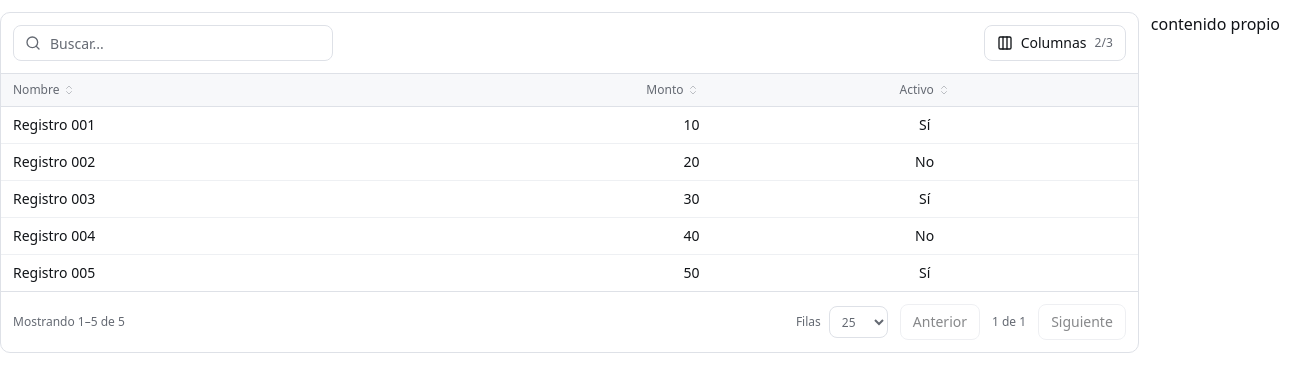
Test: AdvancedTable › configuración de columnas › convive con la ranura de panel lateral del módulo
Step 1. Click the button with aria-label "Columnas," → (1055, 43), box 984,25 -> 1126,61
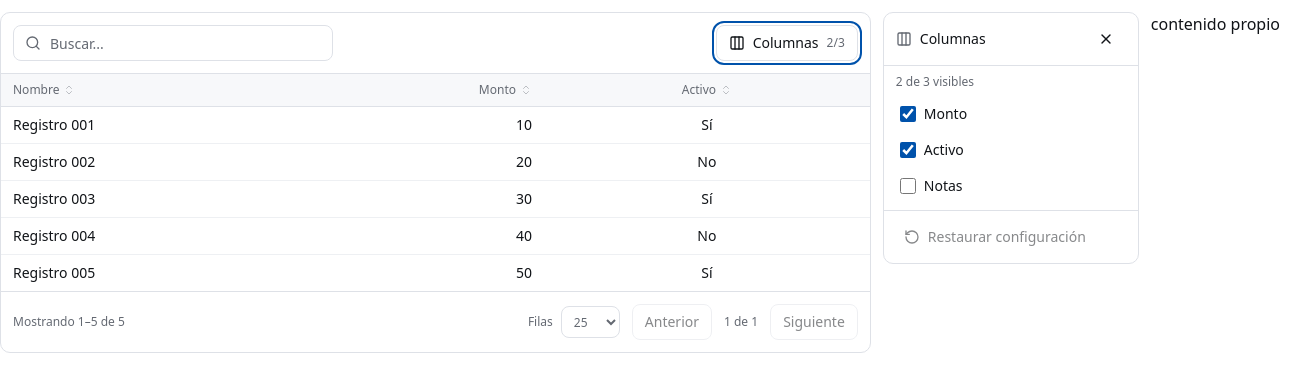
Check: the text named "Panel del módulo" is shown, box 1151,13 -> 1280,35
Check: the element named "Configuración de columnas" is shown, box 883,12 -> 1139,264
